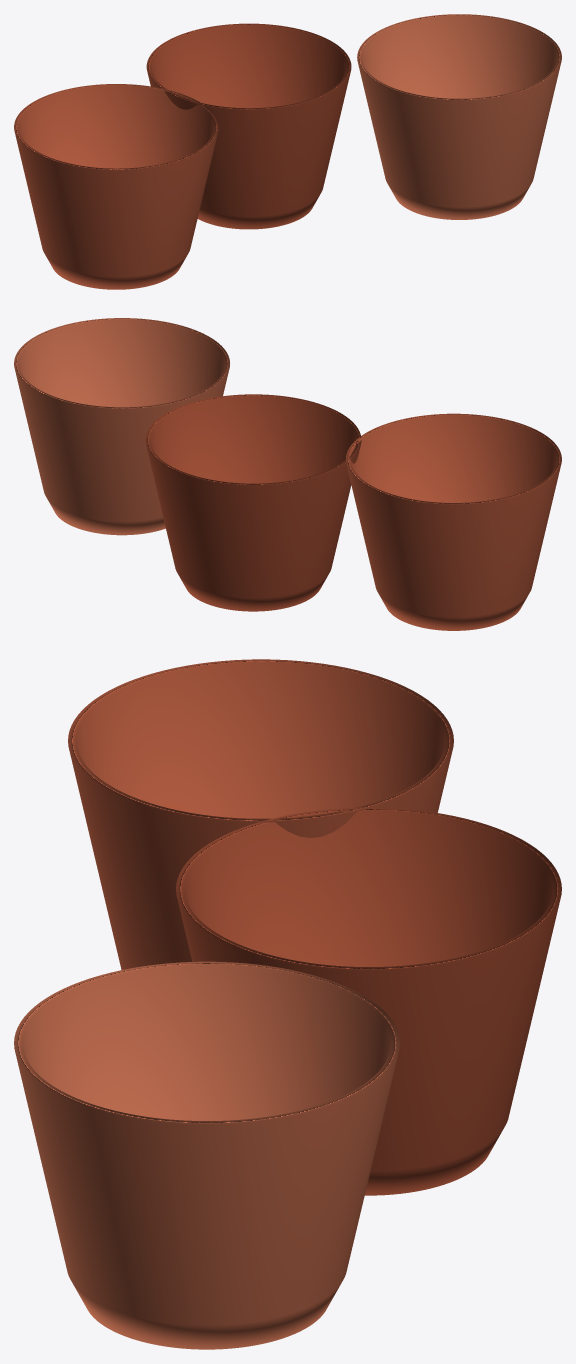
Rendered from cr-terracotta-cups.glb.
3 renders of one model, top to bottom at view 1: azimuth 30°, elevation 25°; view 2: azimuth 150°, elevation 25°; view 3: azimuth 270°, elevation 25°, orthographic. The views are drawn at different scales.
Visible parts, largest first — view 1: cr_terracotta_cups; view 2: cr_terracotta_cups; view 3: cr_terracotta_cups.
Part boxes in pixels (x1,y1,x2,y2): cr_terracotta_cups: (14,14,561,289); cr_terracotta_cups: (14,318,561,630); cr_terracotta_cups: (14,659,561,1349).
Size of the model in its own units: 0.2746 by 0.07 by 0.1366.
